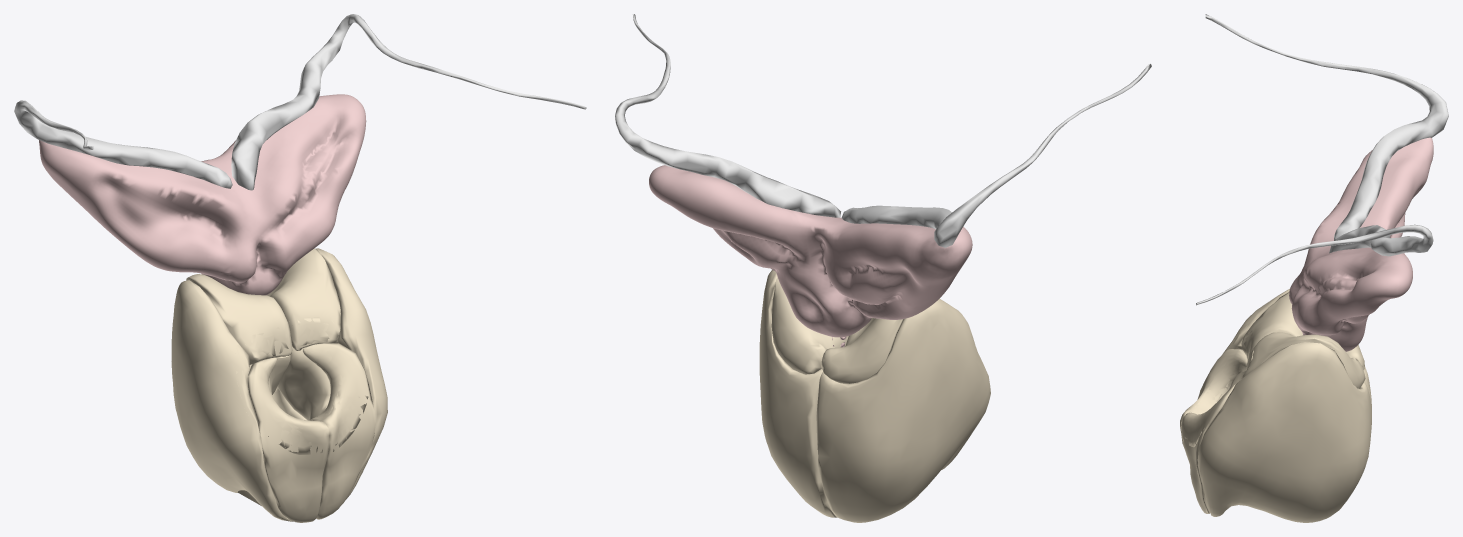
File: vh_m_prostate-80.fbx
3 renders of one model, left to right at view 1: azimuth 30°, elevation 25°; view 2: azimuth 150°, elevation 25°; view 3: azimuth 270°, elevation 25°, orthographic. The views are drawn at different scales.
Visible parts, largest first — view 1: VH_M_seminal_vesicle, VH_M_peripheral_zone_of_prostate_R, VH_M_anterior_fibromuscular_stroma_R, VH_M_anterior_fibromuscular_stroma_L, VH_M_vas_deferens_R, VH_M_vas_deferens_L, VH_M_central_zone_of_prostate_L, VH_M_peripheral_zone_of_prostate_L, VH_M_central_zone_of_prostate_R, VH_M_base_of_prostate, VH_M_transition_zone__of_prostate_L; view 2: VH_M_peripheral_zone_of_prostate_R, VH_M_seminal_vesicle, VH_M_peripheral_zone_of_prostate_L, VH_M_vas_deferens_R, VH_M_vas_deferens_L, VH_M_central_zone_of_prostate_R, VH_M_central_zone_of_prostate_L; view 3: VH_M_peripheral_zone_of_prostate_L, VH_M_seminal_vesicle, VH_M_vas_deferens_L, VH_M_vas_deferens_R, VH_M_central_zone_of_prostate_L, VH_M_central_zone_of_prostate_R, VH_M_anterior_fibromuscular_stroma_L, VH_M_anterior_fibromuscular_stroma_R, VH_M_base_of_prostate, VH_M_peripheral_zone_of_prostate_R.
Part boxes in pixels (x1,y1,x2,y2): VH_M_seminal_vesicle: (39,94,366,295); VH_M_peripheral_zone_of_prostate_R: (171,280,293,521); VH_M_anterior_fibromuscular_stroma_R: (248,357,329,522); VH_M_anterior_fibromuscular_stroma_L: (303,343,375,519); VH_M_vas_deferens_R: (231,14,586,190); VH_M_vas_deferens_L: (14,100,232,188); VH_M_central_zone_of_prostate_L: (267,248,340,387); VH_M_peripheral_zone_of_prostate_L: (272,248,387,499); VH_M_central_zone_of_prostate_R: (186,274,292,364); VH_M_base_of_prostate: (235,317,368,454); VH_M_transition_zone__of_prostate_L: (277,346,330,420); VH_M_peripheral_zone_of_prostate_R: (816,298,990,522); VH_M_seminal_vesicle: (649,165,972,337); VH_M_peripheral_zone_of_prostate_L: (759,270,837,517); VH_M_vas_deferens_R: (615,14,840,217); VH_M_vas_deferens_L: (841,64,1151,247); VH_M_central_zone_of_prostate_R: (821,318,902,383); VH_M_central_zone_of_prostate_L: (771,277,848,374); VH_M_peripheral_zone_of_prostate_L: (1197,342,1371,522); VH_M_seminal_vesicle: (1289,137,1433,351); VH_M_vas_deferens_L: (1205,14,1448,240); VH_M_vas_deferens_R: (1196,224,1433,305); VH_M_central_zone_of_prostate_L: (1241,332,1365,388); VH_M_central_zone_of_prostate_R: (1241,292,1364,369); VH_M_anterior_fibromuscular_stroma_L: (1181,379,1241,513); VH_M_anterior_fibromuscular_stroma_R: (1180,349,1247,443); VH_M_base_of_prostate: (1182,325,1253,447); VH_M_peripheral_zone_of_prostate_R: (1200,289,1371,409).
Size of the model in its own units: 8.3 by 7.05 by 4.28.
